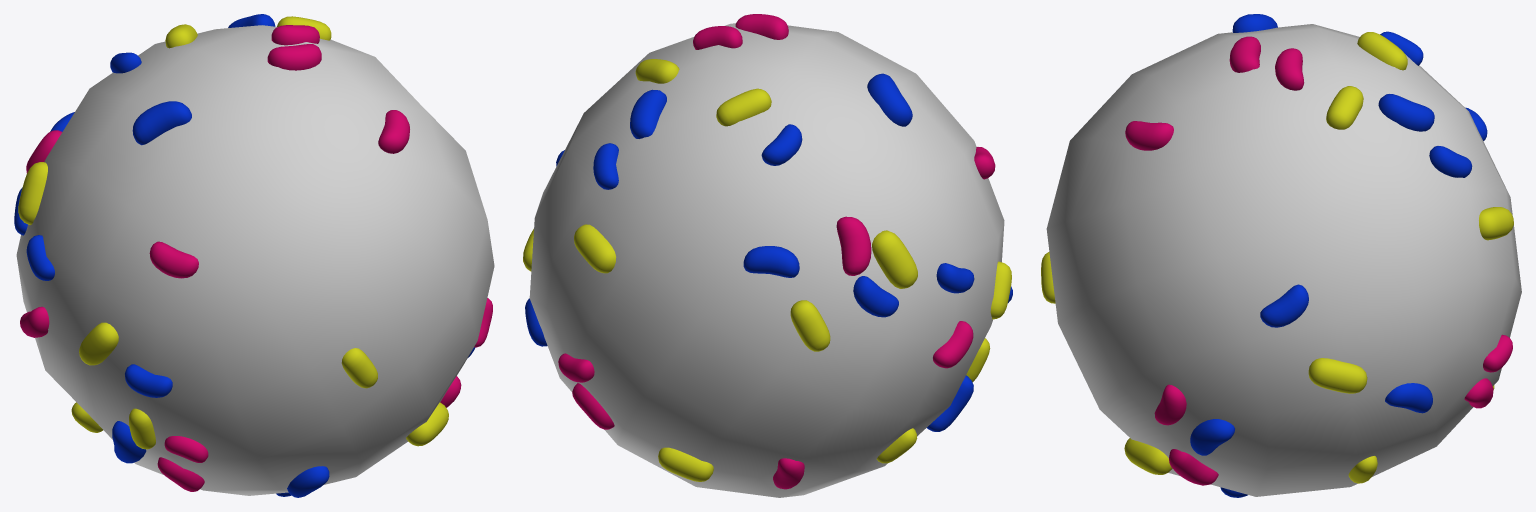
3 views of the same model, side by side, from view 1: azimuth 30°, elevation 25°; view 2: azimuth 150°, elevation 25°; view 3: azimuth 270°, elevation 25° (orthographic).
Parts seen in each view (by area): view 1: Cube.1415, Cube.1409, Cube.1408, Cube.1407; view 2: Cube.1415, Cube.1407, Cube.1408, Cube.1409; view 3: Cube.1415, Cube.1408, Cube.1407, Cube.1409.
Boxes of the visible parts, x1,y1,x2,y2 form: Cube.1415: [16, 25, 494, 495]; Cube.1409: [20, 25, 492, 491]; Cube.1408: [14, 14, 475, 497]; Cube.1407: [18, 16, 448, 449]; Cube.1415: [529, 23, 1004, 497]; Cube.1407: [523, 59, 1011, 481]; Cube.1408: [525, 73, 1012, 431]; Cube.1409: [558, 14, 995, 489]; Cube.1415: [1046, 24, 1521, 496]; Cube.1408: [1190, 14, 1487, 497]; Cube.1407: [1041, 32, 1513, 483]; Cube.1409: [1125, 36, 1512, 485].
Size of the model in its own units: 0.9401 by 0.9364 by 0.9022.
